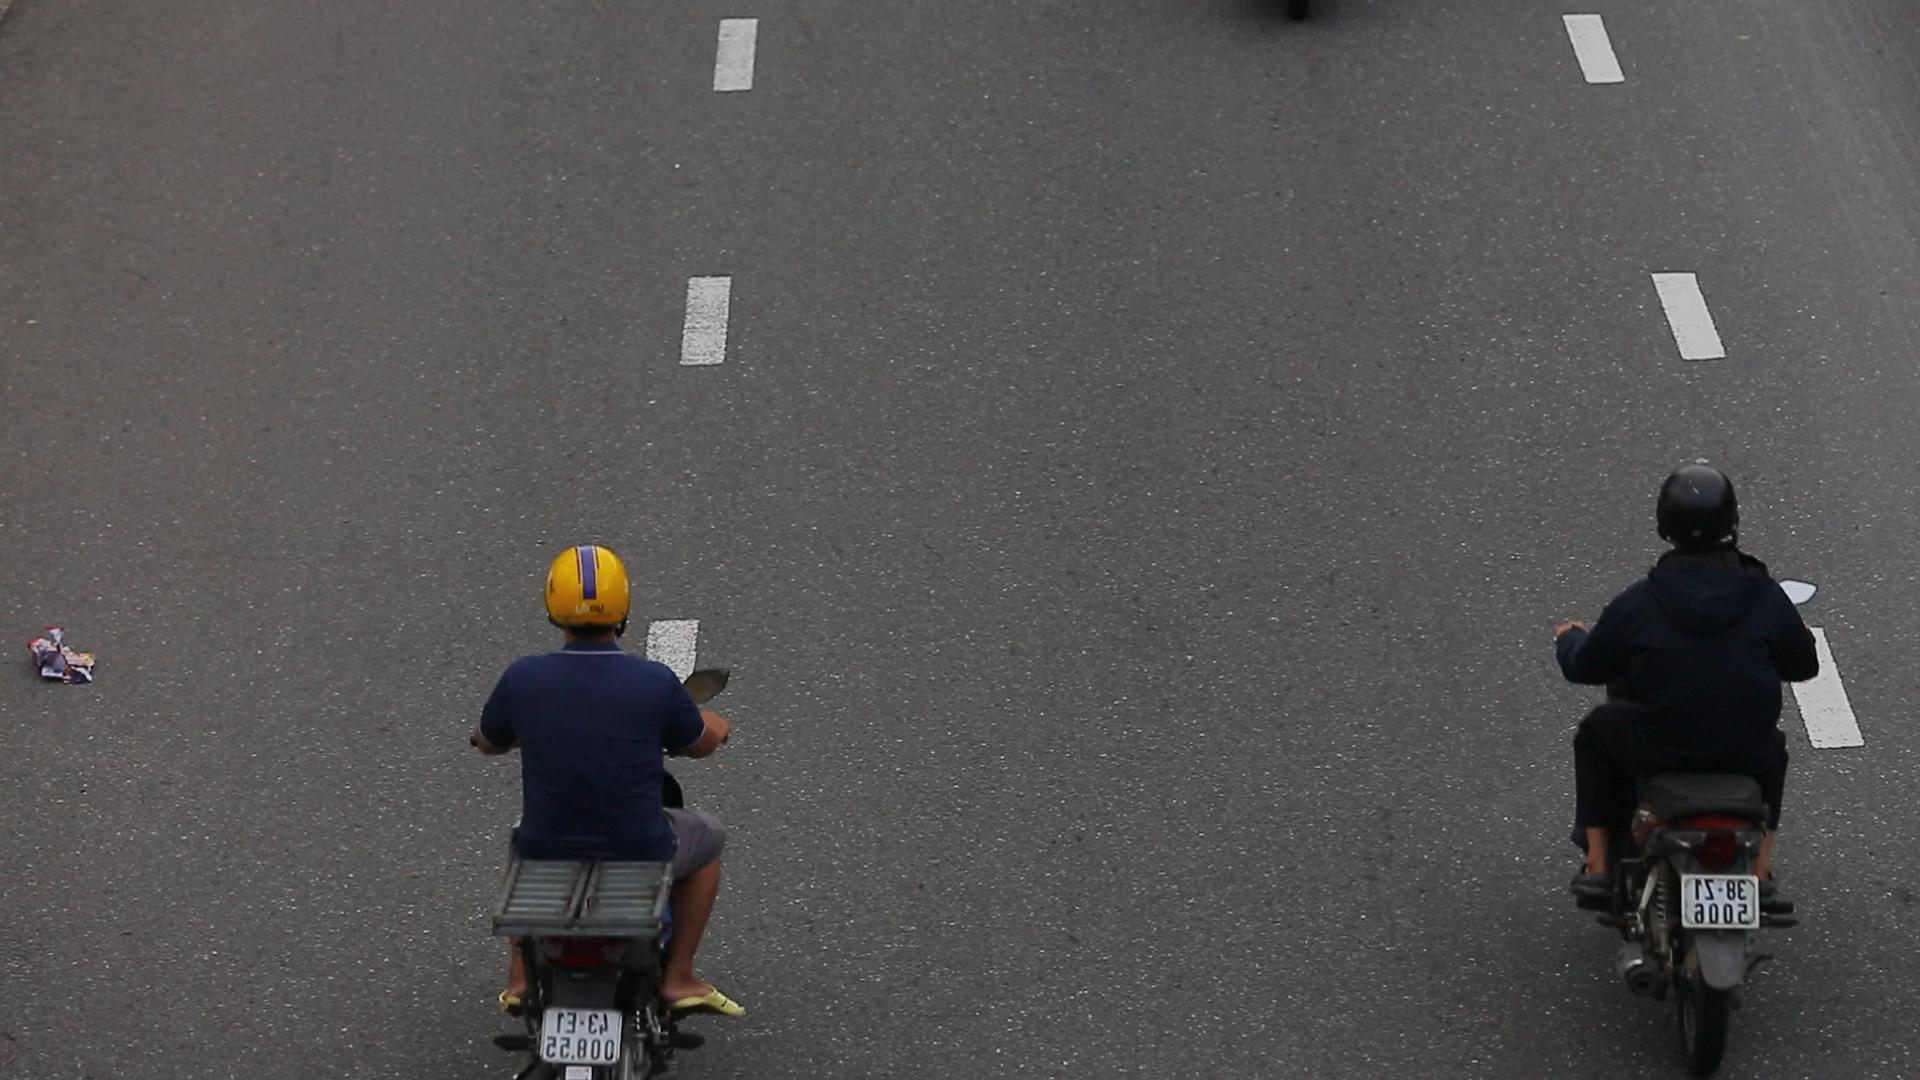motobike: (1543, 447, 1830, 1079), (458, 527, 746, 1080)
